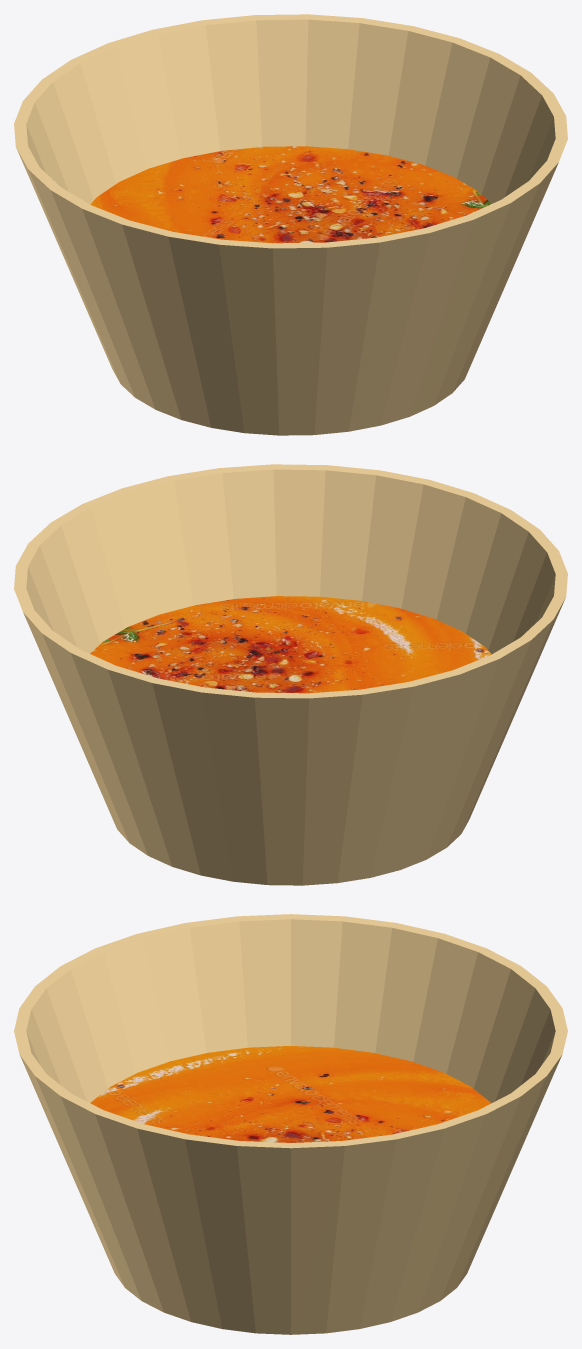
The model's file is plato_2.obj.
3 renders of one model, top to bottom at view 1: azimuth 30°, elevation 25°; view 2: azimuth 150°, elevation 25°; view 3: azimuth 270°, elevation 25°, orthographic.
Visible parts, largest first — view 1: Cilindro.006_Cilindro.003_Material.004, Cilindro.006_Cilindro.003_Material.099; view 2: Cilindro.006_Cilindro.003_Material.004, Cilindro.006_Cilindro.003_Material.099; view 3: Cilindro.006_Cilindro.003_Material.004, Cilindro.006_Cilindro.003_Material.099.
Boxes of the visible parts, x1,y1,x2,y2 form: Cilindro.006_Cilindro.003_Material.004: [14, 14, 567, 435]; Cilindro.006_Cilindro.003_Material.099: [90, 146, 491, 243]; Cilindro.006_Cilindro.003_Material.004: [14, 464, 567, 885]; Cilindro.006_Cilindro.003_Material.099: [90, 596, 491, 693]; Cilindro.006_Cilindro.003_Material.004: [14, 914, 567, 1334]; Cilindro.006_Cilindro.003_Material.099: [90, 1046, 491, 1142].
Size of the model in its own units: 0.22 by 0.0998 by 0.22.
